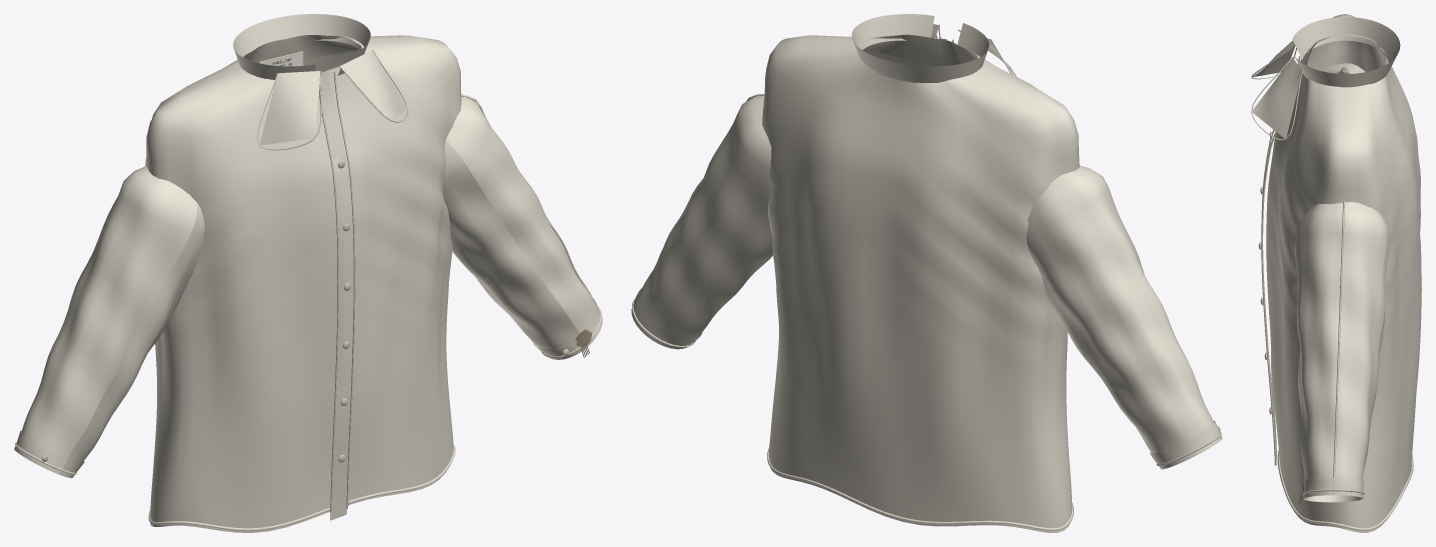
Rendered from cloud-poplin.glb.
3 renders of one model, left to right at view 1: azimuth 30°, elevation 25°; view 2: azimuth 150°, elevation 25°; view 3: azimuth 270°, elevation 25°, orthographic. The views are drawn at different scales.
Parts seen in each view (by area): view 1: hollow-tailored-body, hollow-left-sleeve, hollow-right-sleeve, standing-collar-band, pointed-collar--1, folded-front-placket, pointed-collar-1, placket-edge (×2), inside-neck-facing, open-cuff-facing--1, double-stitched-hem, open-cuff-facing-1; view 2: hollow-tailored-body, hollow-left-sleeve, hollow-right-sleeve, standing-collar-band, inside-neck-facing, open-cuff-facing--1, double-stitched-hem, open-cuff-facing-1; view 3: hollow-tailored-body, hollow-right-sleeve, standing-collar-band, pointed-collar-1, placket-edge (×2), open-cuff-facing-1, underarm-seam-1, double-stitched-hem, pointed-collar--1, hollow-left-sleeve, collar-topstitch-1.
Part boxes in pixels (bbox=[...]): hollow-tailored-body: bbox=[145, 35, 461, 532]; hollow-left-sleeve: bbox=[21, 166, 204, 462]; hollow-right-sleeve: bbox=[442, 94, 596, 349]; standing-collar-band: bbox=[233, 14, 370, 79]; pointed-collar--1: bbox=[260, 71, 319, 145]; folded-front-placket: bbox=[321, 72, 349, 520]; pointed-collar-1: bbox=[340, 50, 407, 119]; placket-edge (×2): bbox=[319, 71, 355, 512]; inside-neck-facing: bbox=[244, 35, 361, 72]; open-cuff-facing--1: bbox=[14, 430, 84, 478]; double-stitched-hem: bbox=[148, 446, 455, 530]; open-cuff-facing-1: bbox=[532, 298, 602, 359]; hollow-tailored-body: bbox=[762, 34, 1079, 532]; hollow-left-sleeve: bbox=[1026, 165, 1214, 453]; hollow-right-sleeve: bbox=[638, 95, 772, 339]; standing-collar-band: bbox=[851, 14, 989, 82]; inside-neck-facing: bbox=[864, 35, 977, 66]; open-cuff-facing--1: bbox=[1149, 420, 1222, 469]; double-stitched-hem: bbox=[767, 447, 1073, 530]; open-cuff-facing-1: bbox=[631, 288, 702, 349]; hollow-tailored-body: bbox=[1266, 14, 1421, 532]; hollow-right-sleeve: bbox=[1295, 202, 1388, 502]; standing-collar-band: bbox=[1292, 17, 1400, 87]; pointed-collar-1: bbox=[1252, 57, 1301, 138]; placket-edge (×2): bbox=[1261, 56, 1300, 465]; open-cuff-facing-1: bbox=[1303, 477, 1363, 502]; underarm-seam-1: bbox=[1333, 201, 1344, 494]; double-stitched-hem: bbox=[1277, 450, 1413, 530]; pointed-collar--1: bbox=[1253, 40, 1295, 76]; hollow-left-sleeve: bbox=[1323, 63, 1365, 73]; collar-topstitch-1: bbox=[1251, 57, 1302, 140].
Size of the model in its own units: 0.9306 by 0.692 by 0.2522.
Materials: 9 (1 with a texture image).
